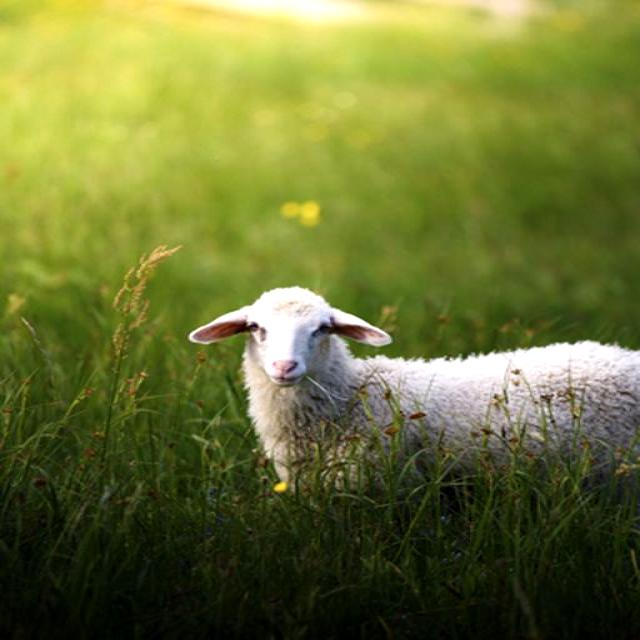sheep: (191, 287, 638, 490)
